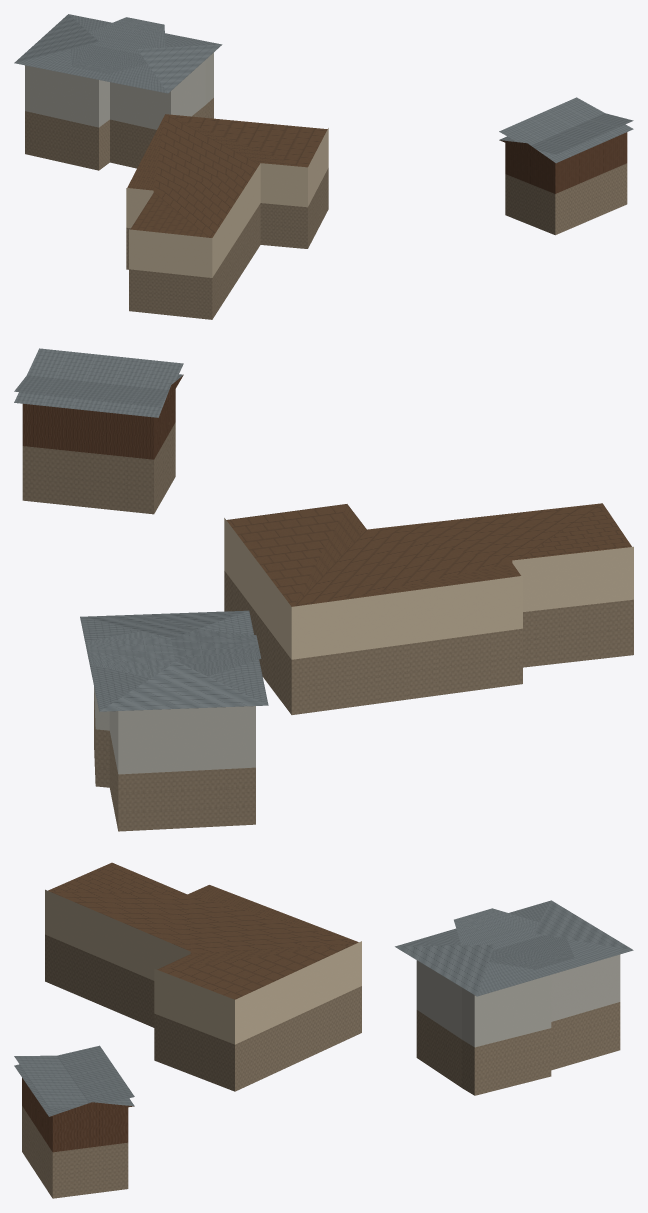
The model's file is bld_c11_10_502.gltf.
The picture shows the model from 3 angles, top to bottom: view 1: azimuth 30°, elevation 25°; view 2: azimuth 150°, elevation 25°; view 3: azimuth 270°, elevation 25°; orthographic projection. The views are drawn at different scales.
Visible parts, largest first — view 1: bld_c11_10_502; view 2: bld_c11_10_502; view 3: bld_c11_10_502.
Boxes of the visible parts, x1=… form: bld_c11_10_502: x1=14, y1=14, x2=633, y2=319; bld_c11_10_502: x1=14, y1=348, x2=633, y2=831; bld_c11_10_502: x1=14, y1=862, x2=633, y2=1198.
Bounding box in the file's own units: 59.08 × 12.1 × 59.17.
8 materials, 8 textured.
